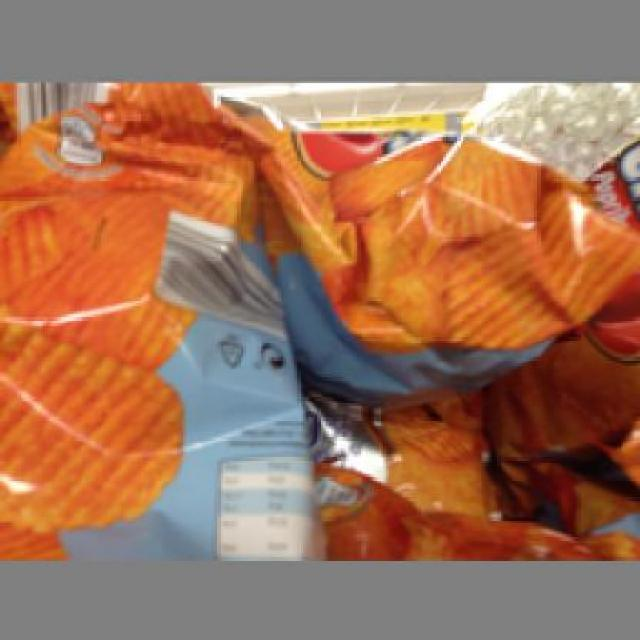Chips: (0, 94, 289, 557), (262, 126, 638, 380)
